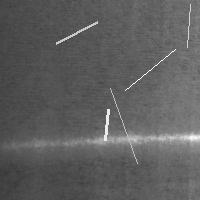scratches: (105, 83, 142, 168), (6, 130, 199, 146), (120, 44, 180, 95), (51, 17, 102, 48), (182, 0, 195, 52), (100, 104, 113, 145)
